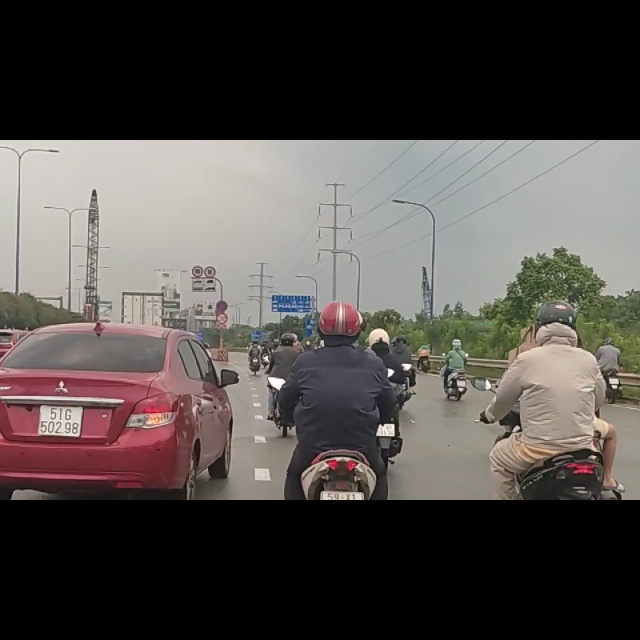bien_cam: (216, 284, 228, 306)
